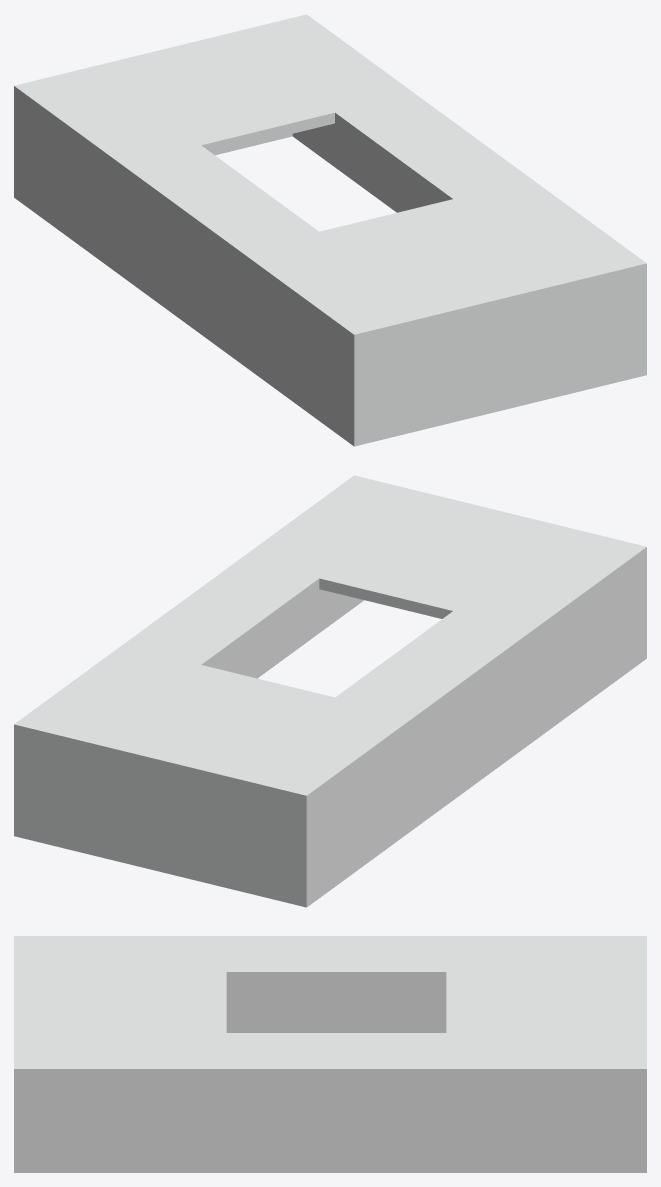
File: lmg.FBX
3 views of the same model, one above another, from view 1: azimuth 30°, elevation 25°; view 2: azimuth 150°, elevation 25°; view 3: azimuth 270°, elevation 25° (orthographic). The views are drawn at different scales.
Parts seen in each view (by area): view 1: G_1_gaizi_polySurface672, polySurface673_G_1_gaizi; view 2: G_1_gaizi_polySurface672, polySurface673_G_1_gaizi; view 3: polySurface673_G_1_gaizi, G_1_gaizi_polySurface672.
Boxes of the visible parts, x1,y1,x2,y2 form: G_1_gaizi_polySurface672: (14,50,500,446); polySurface673_G_1_gaizi: (161,14,646,410); G_1_gaizi_polySurface672: (160,511,646,907); polySurface673_G_1_gaizi: (14,475,499,871); polySurface673_G_1_gaizi: (14,1002,646,1172); G_1_gaizi_polySurface672: (14,936,646,1032).
Size of the model in its own units: 10.35 by 3.78 by 20.83.
Materials: 1 (1 with a texture image).
